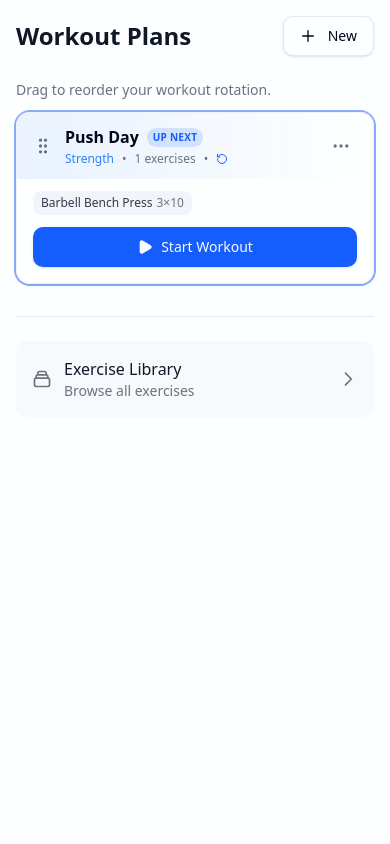
Scenario: WorkoutPlans › List View › clicking delete in menu with confirmation removes template
Open the dropdown menu
Click the 3rd button at (341, 146), box x1=325 y1=130 x2=357 y2=162
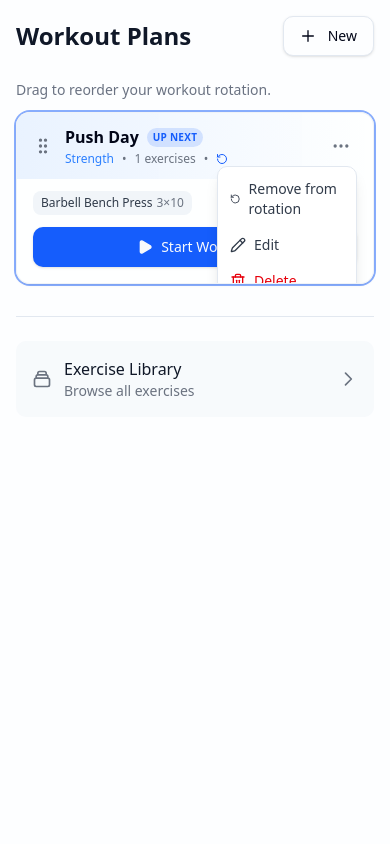
Click Delete in the dropdown
Click the button "Delete" at (287, 281), box x1=218 y1=263 x2=356 y2=299
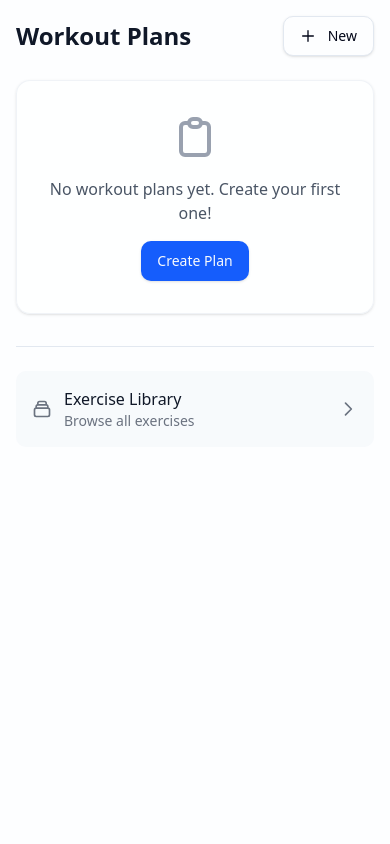
Check: the heading "Push Day" is gone
